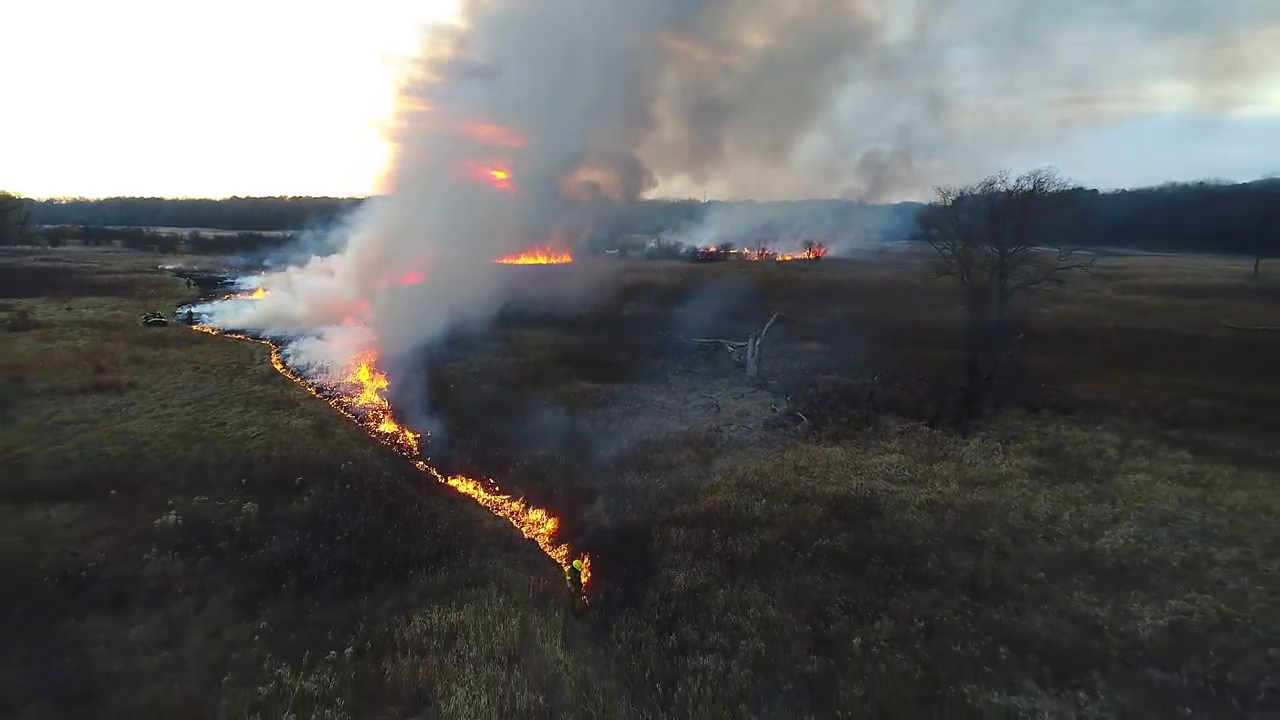forest_fire: (192, 323, 574, 567), (742, 241, 826, 261), (493, 246, 572, 264), (575, 553, 590, 590), (583, 596, 584, 599)
